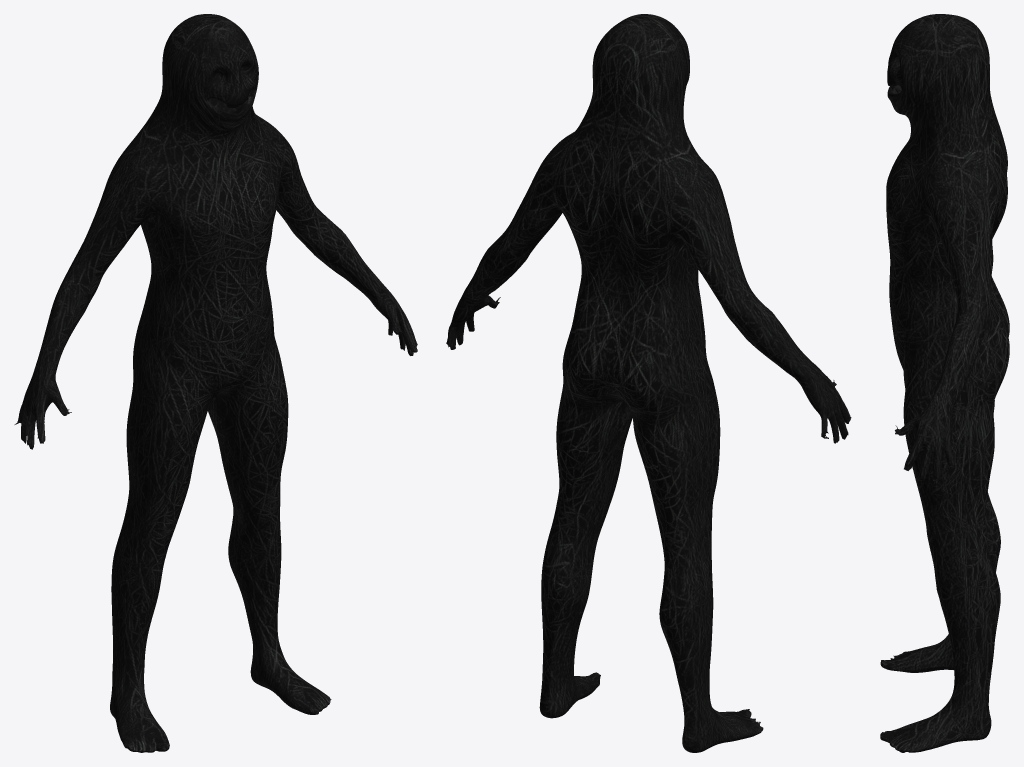
Rendered from guy.glb.
The picture shows the model from 3 angles, left to right: view 1: azimuth 30°, elevation 25°; view 2: azimuth 150°, elevation 25°; view 3: azimuth 270°, elevation 25°; orthographic projection. The views are drawn at different scales.
Parts seen in each view (by area): view 1: Mesh_0; view 2: Mesh_0; view 3: Mesh_0.
Boxes of the visible parts, box(x1,y1,x2,y2) form: Mesh_0: box(14, 14, 417, 752); Mesh_0: box(446, 14, 851, 752); Mesh_0: box(880, 14, 1009, 752).
Bounding box in the file's own units: 1.11 × 1.9 × 0.3242.
Materials: 1 (1 with a texture image).
